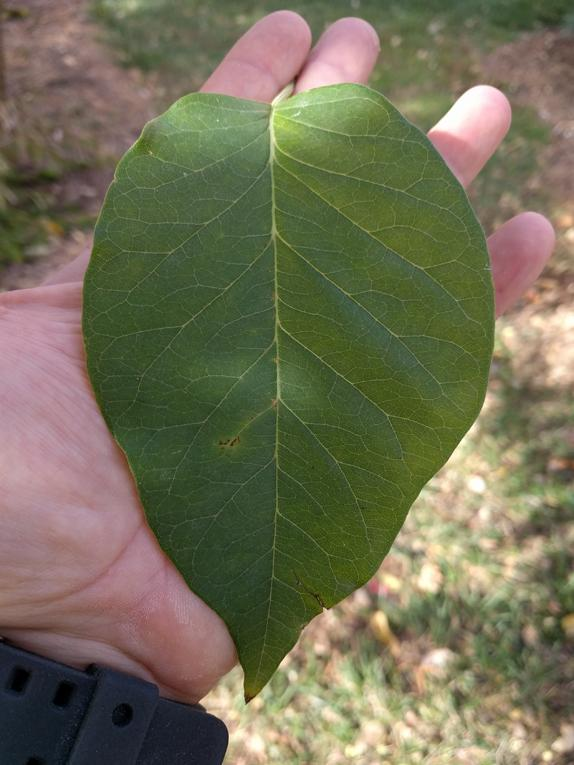Healthy Citrus: (84, 78, 501, 661)
